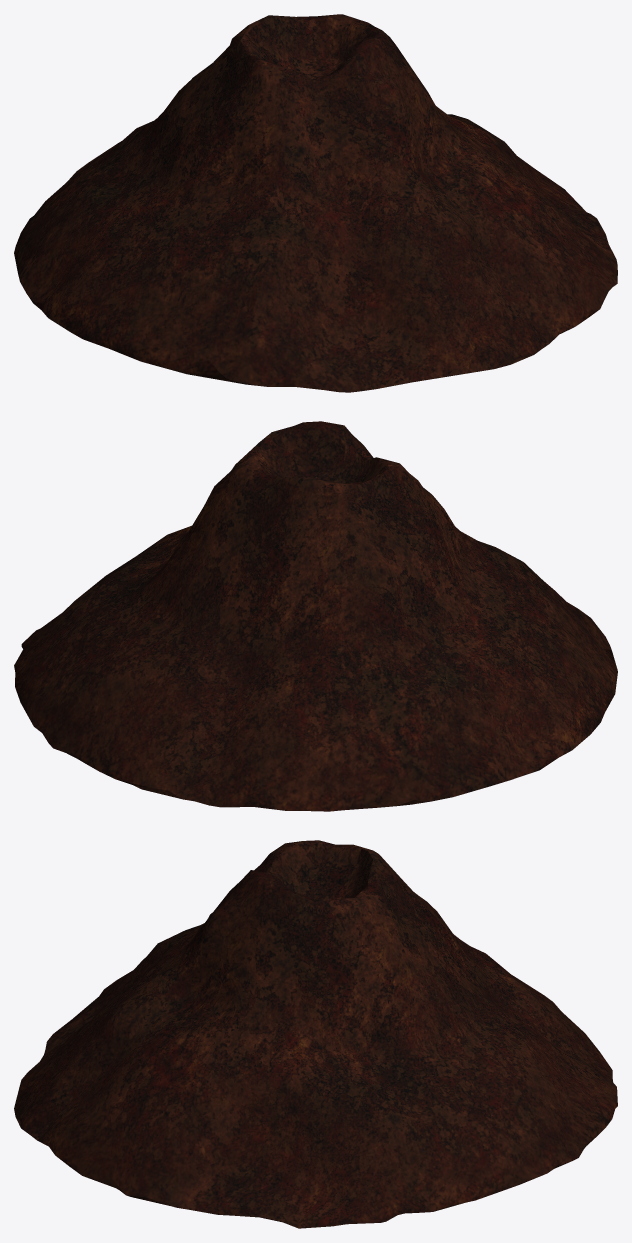
File: Gunung Berapi.dae
3 renders of one model, top to bottom at view 1: azimuth 30°, elevation 25°; view 2: azimuth 150°, elevation 25°; view 3: azimuth 270°, elevation 25°, orthographic.
Visible parts, largest first — view 1: LP_Mountain; view 2: LP_Mountain; view 3: LP_Mountain.
Part boxes in pixels (box(x1,y1,x2,y2)): LP_Mountain: box(14, 14, 617, 392); LP_Mountain: box(14, 421, 617, 811); LP_Mountain: box(14, 840, 617, 1228).
Bounding box in the file's own units: 9.37 × 9.41 × 4.1.
Materials: 1 (1 with a texture image).
